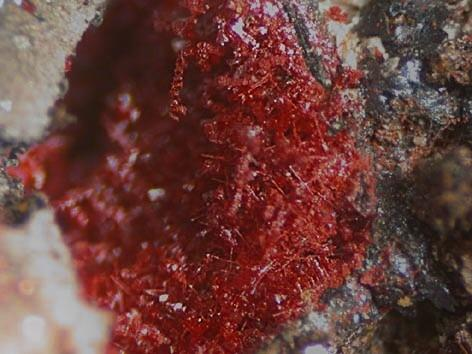cuprite: (11, 2, 375, 353)
